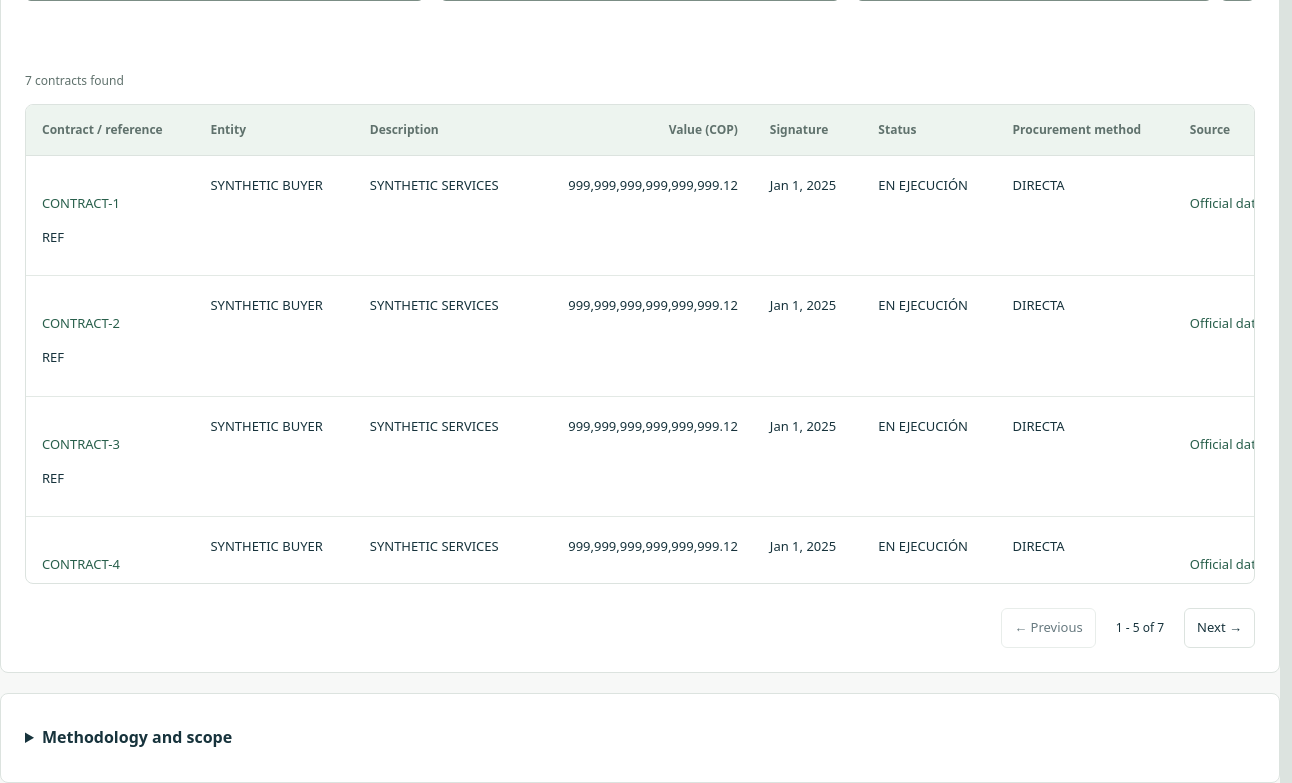
Test: contract pagination displays the same range structure as Capital Markets
The image size is (1292, 783).
(page scrolled)
Expected: the navigation bar named "Contract pages" shows "1 - 5 of 7", [1001,608,1255,648]
Expected: the text "7 contracts found" is shown, [25,72,124,89]
Click the button "Next →".
click(1220, 628)  # box [1184,608,1255,648]
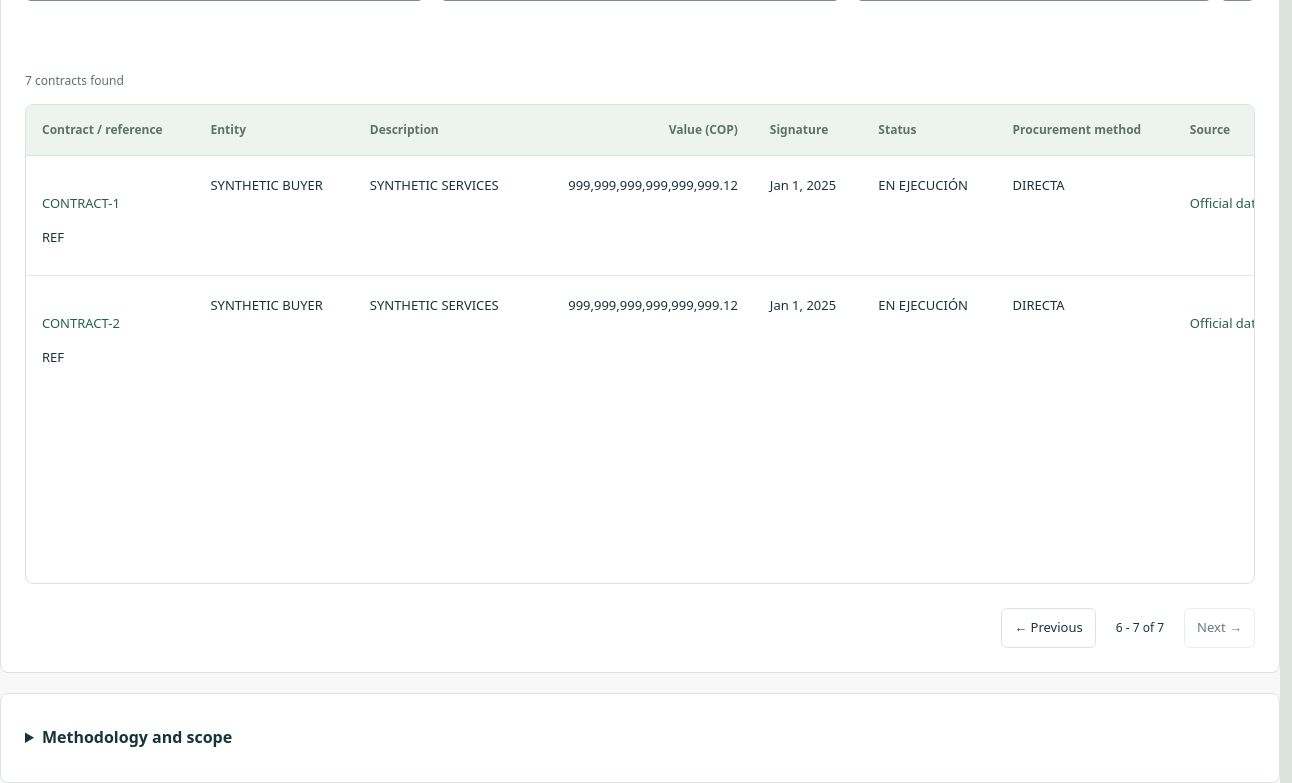
Expected: the navigation bar named "Contract pages" shows "6 - 7 of 7", [1001,608,1255,648]
Expected: the button "Next →" is disabled, [1184,608,1255,648]
